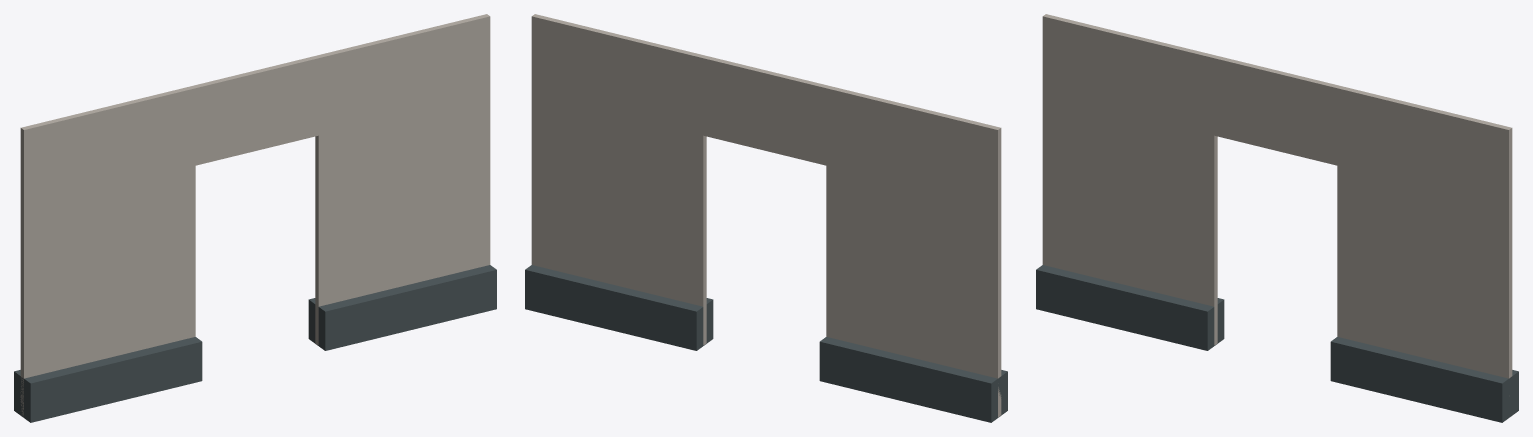
Rendered from Wall_05_Door.fbx.
The picture shows the model from 3 angles, left to right: view 1: azimuth 30°, elevation 25°; view 2: azimuth 150°, elevation 25°; view 3: azimuth 330°, elevation 25°; orthographic projection.
Parts seen in each view (by area): view 1: Wall_05_Door; view 2: Wall_05_Door; view 3: Wall_05_Door.
Boxes of the visible parts, left/top/right/bottom form: Wall_05_Door: left=14, top=14, right=496, bottom=422; Wall_05_Door: left=525, top=14, right=1007, bottom=422; Wall_05_Door: left=1036, top=14, right=1518, bottom=422.
Bounding box in the file's own units: 473 × 279 × 29.21.
